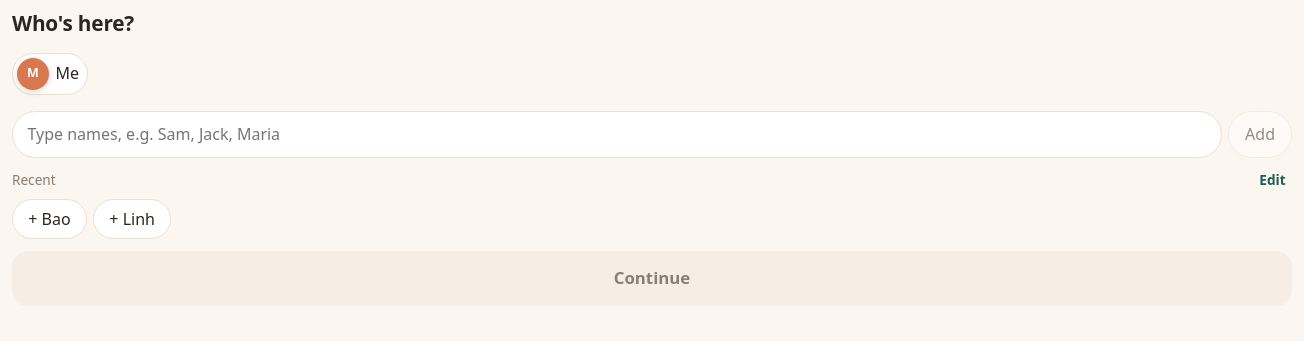
PeoplePicker › removes someone from the split, but never Me
This screenshot has width=1304, height=341.
Type "Tam" into the field named "add names" at [617, 134], box left=12, top=110, right=1222, bottom=158
Then press Enter
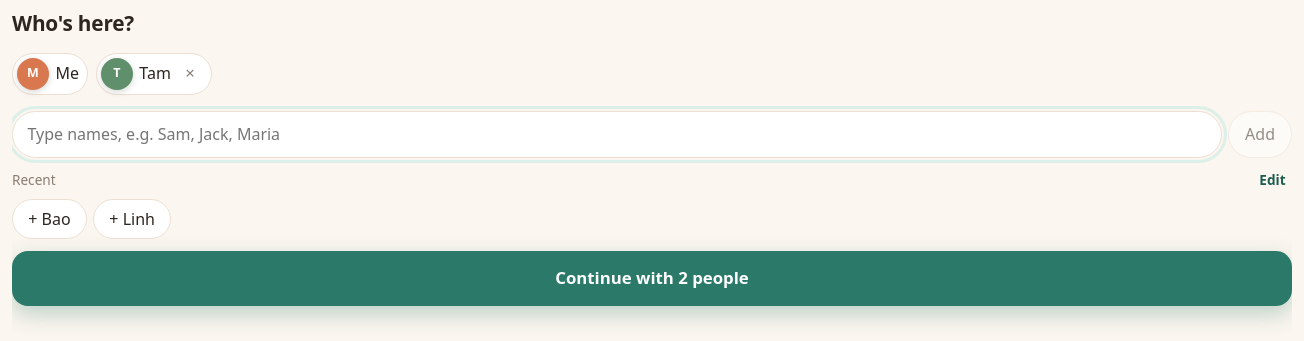
Click the button named "Remove Tam" at [190, 74], box left=177, top=61, right=203, bottom=86
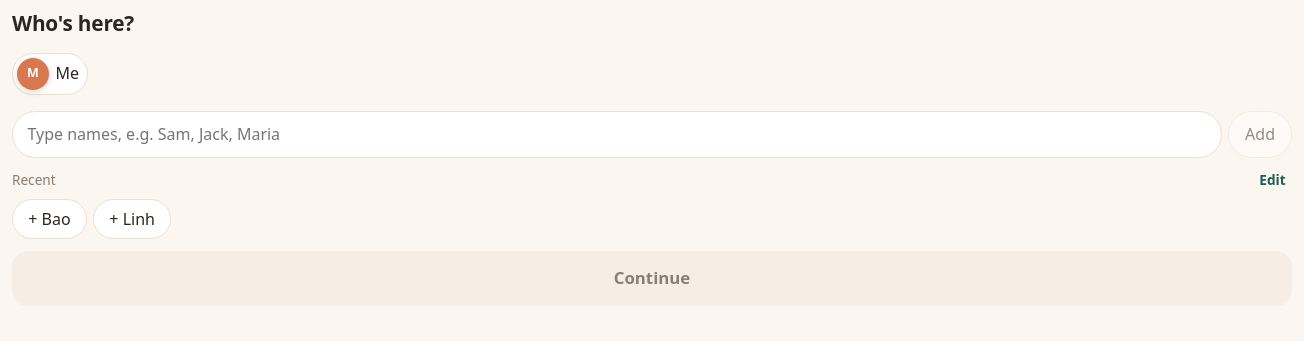
expect the number of list items is 1: met, box left=12, top=52, right=88, bottom=94
